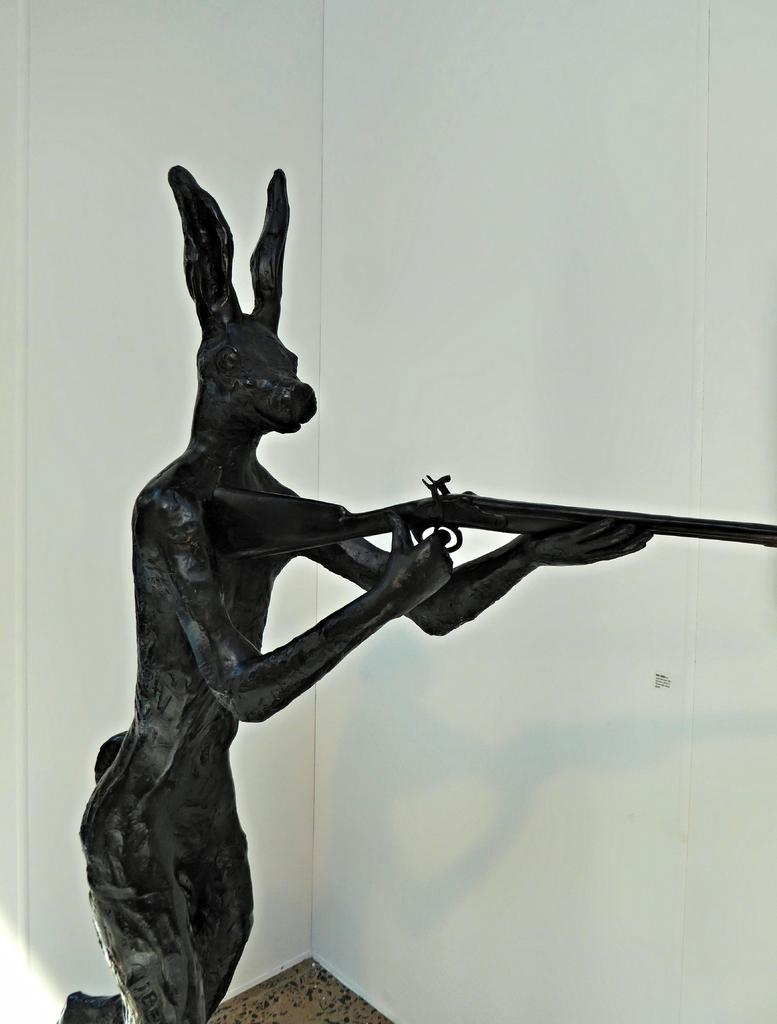Rifle: (200, 475, 776, 556)
